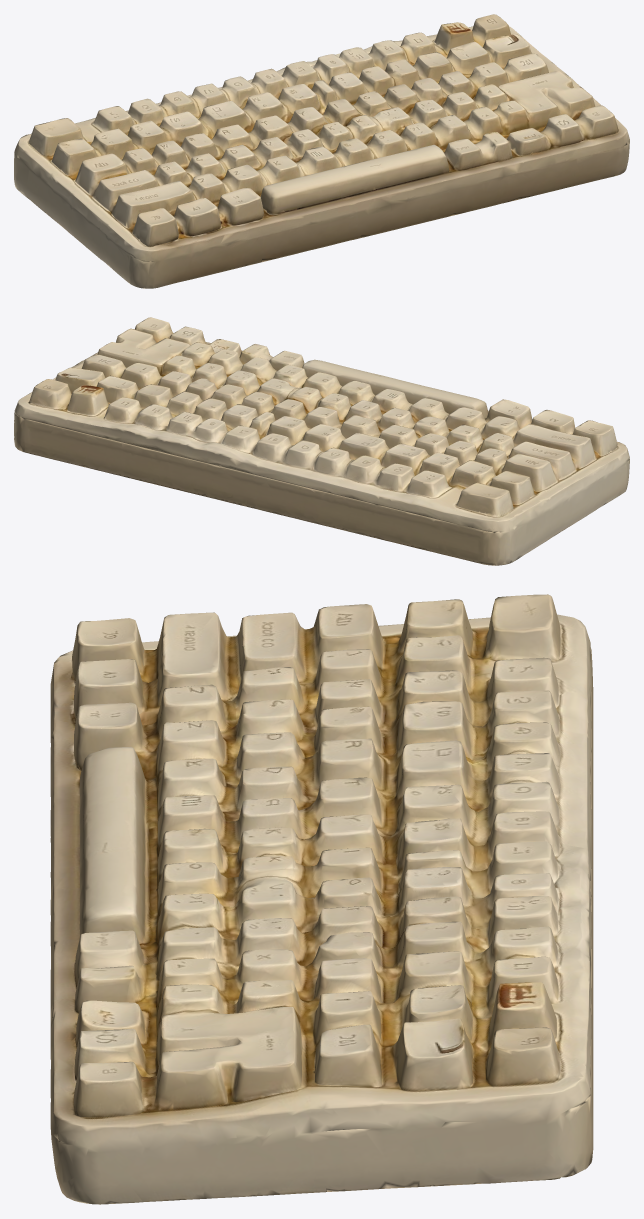
File: keyboard-6dd3c49ad4c7.glb
3 views of the same model, one above another, from view 1: azimuth 30°, elevation 25°; view 2: azimuth 150°, elevation 25°; view 3: azimuth 270°, elevation 25° (orthographic). The views are drawn at different scales.
Parts seen in each view (by area): view 1: tripo_node_cafe4b9a-cb21-46cb-a879-c5739277b95d; view 2: tripo_node_cafe4b9a-cb21-46cb-a879-c5739277b95d; view 3: tripo_node_cafe4b9a-cb21-46cb-a879-c5739277b95d.
Part boxes in pixels (bbox=[...]): tripo_node_cafe4b9a-cb21-46cb-a879-c5739277b95d: bbox=[14, 14, 629, 288]; tripo_node_cafe4b9a-cb21-46cb-a879-c5739277b95d: bbox=[14, 317, 629, 565]; tripo_node_cafe4b9a-cb21-46cb-a879-c5739277b95d: bbox=[50, 594, 593, 1204].
Bounding box in the file's own units: 1 × 0.1474 × 0.4724.
Materials: 1 (1 with a texture image).
